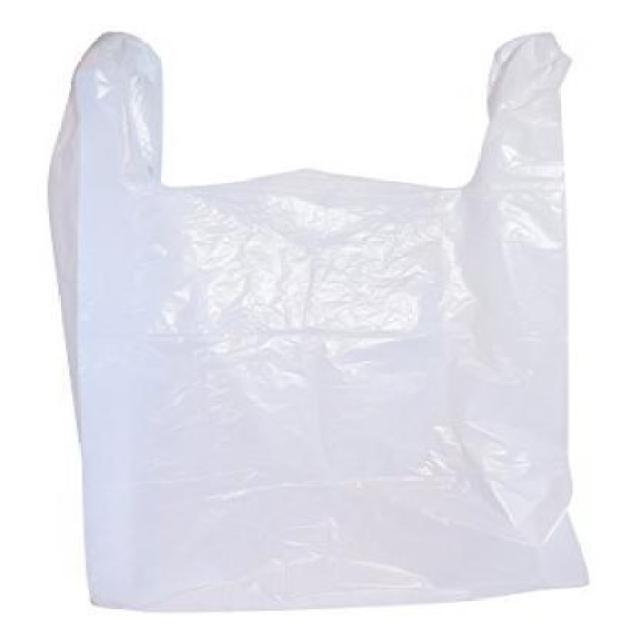plastic bag: (32, 32, 606, 624)
